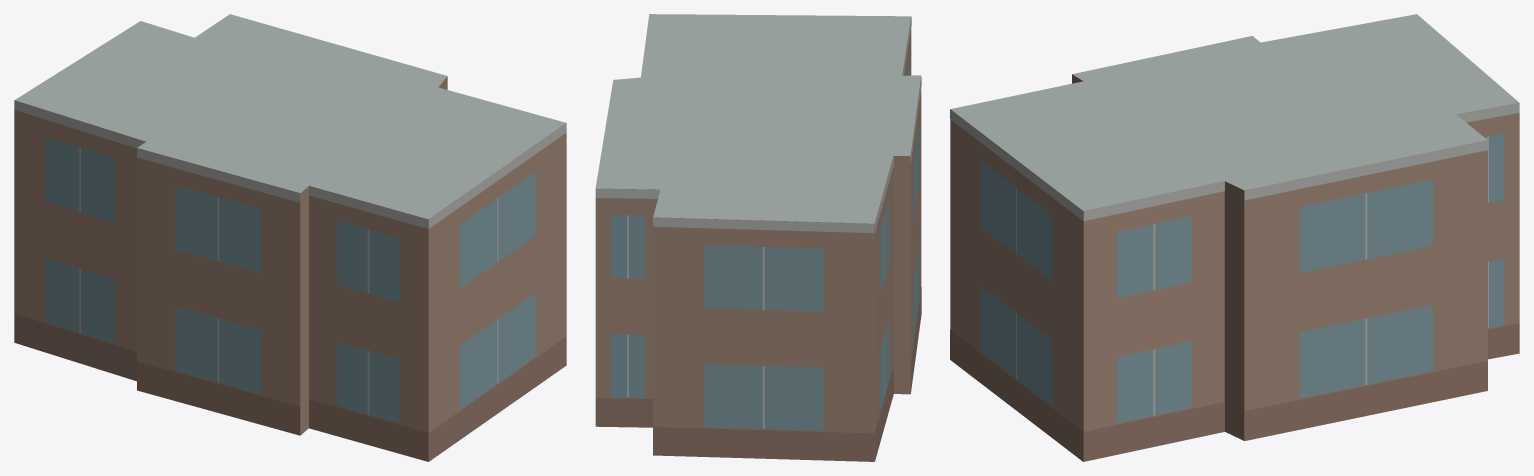
The model's file is survey-upis-32758125.glb.
3 renders of one model, left to right at view 1: azimuth 30°, elevation 25°; view 2: azimuth 150°, elevation 25°; view 3: azimuth 270°, elevation 25°, orthographic. The views are drawn at different scales.
Visible parts, largest first — view 1: survey-upis-32758125.tmp; view 2: survey-upis-32758125.tmp; view 3: survey-upis-32758125.tmp.
Boxes of the visible parts, x1,y1,x2,y2 form: survey-upis-32758125.tmp: [14, 14, 566, 461]; survey-upis-32758125.tmp: [595, 14, 921, 461]; survey-upis-32758125.tmp: [950, 14, 1519, 461].
Bounding box in the file's own units: 10.3 × 6.1 × 12.57.
